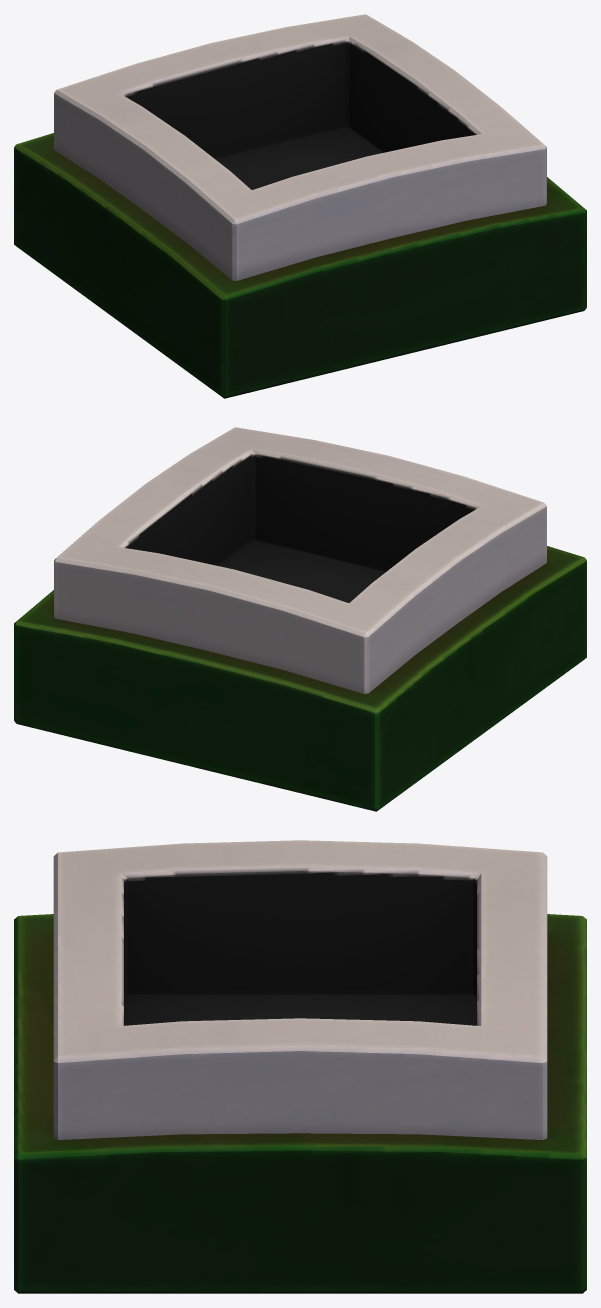
The model's file is GarbageCan.fbx.
The picture shows the model from 3 angles, top to bottom: view 1: azimuth 30°, elevation 25°; view 2: azimuth 150°, elevation 25°; view 3: azimuth 270°, elevation 25°; orthographic projection. The views are drawn at different scales.
Visible parts, largest first — view 1: Garbage_Can.001; view 2: Garbage_Can.001; view 3: Garbage_Can.001.
Boxes of the visible parts, bbox=[...] form: Garbage_Can.001: bbox=[14, 14, 586, 398]; Garbage_Can.001: bbox=[14, 427, 586, 811]; Garbage_Can.001: bbox=[14, 840, 586, 1293].
Bounding box in the file's own units: 200 × 89.57 × 200.
1 material, 1 textured.
